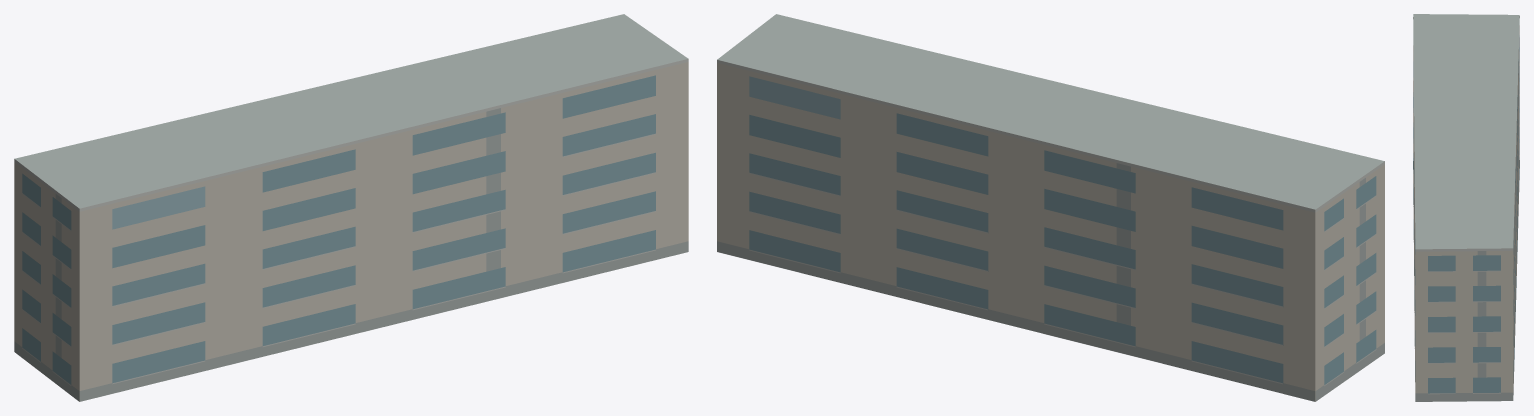
Rendered from residential-25791e87-7849-499c-88c8-71295a4cfd4f.glb.
The picture shows the model from 3 angles, left to right: view 1: azimuth 30°, elevation 25°; view 2: azimuth 150°, elevation 25°; view 3: azimuth 270°, elevation 25°; orthographic projection. The views are drawn at different scales.
Visible parts, largest first — view 1: residential-25791e87-7849-499c-88c8-71295a4cfd4f.tmp; view 2: residential-25791e87-7849-499c-88c8-71295a4cfd4f.tmp; view 3: residential-25791e87-7849-499c-88c8-71295a4cfd4f.tmp.
Boxes of the visible parts, box(x1,y1,x2,y2) form: residential-25791e87-7849-499c-88c8-71295a4cfd4f.tmp: box(14, 14, 688, 401); residential-25791e87-7849-499c-88c8-71295a4cfd4f.tmp: box(717, 14, 1384, 401); residential-25791e87-7849-499c-88c8-71295a4cfd4f.tmp: box(1413, 14, 1519, 401).
Size of the model in its own units: 50.43 by 15.25 by 9.66.
